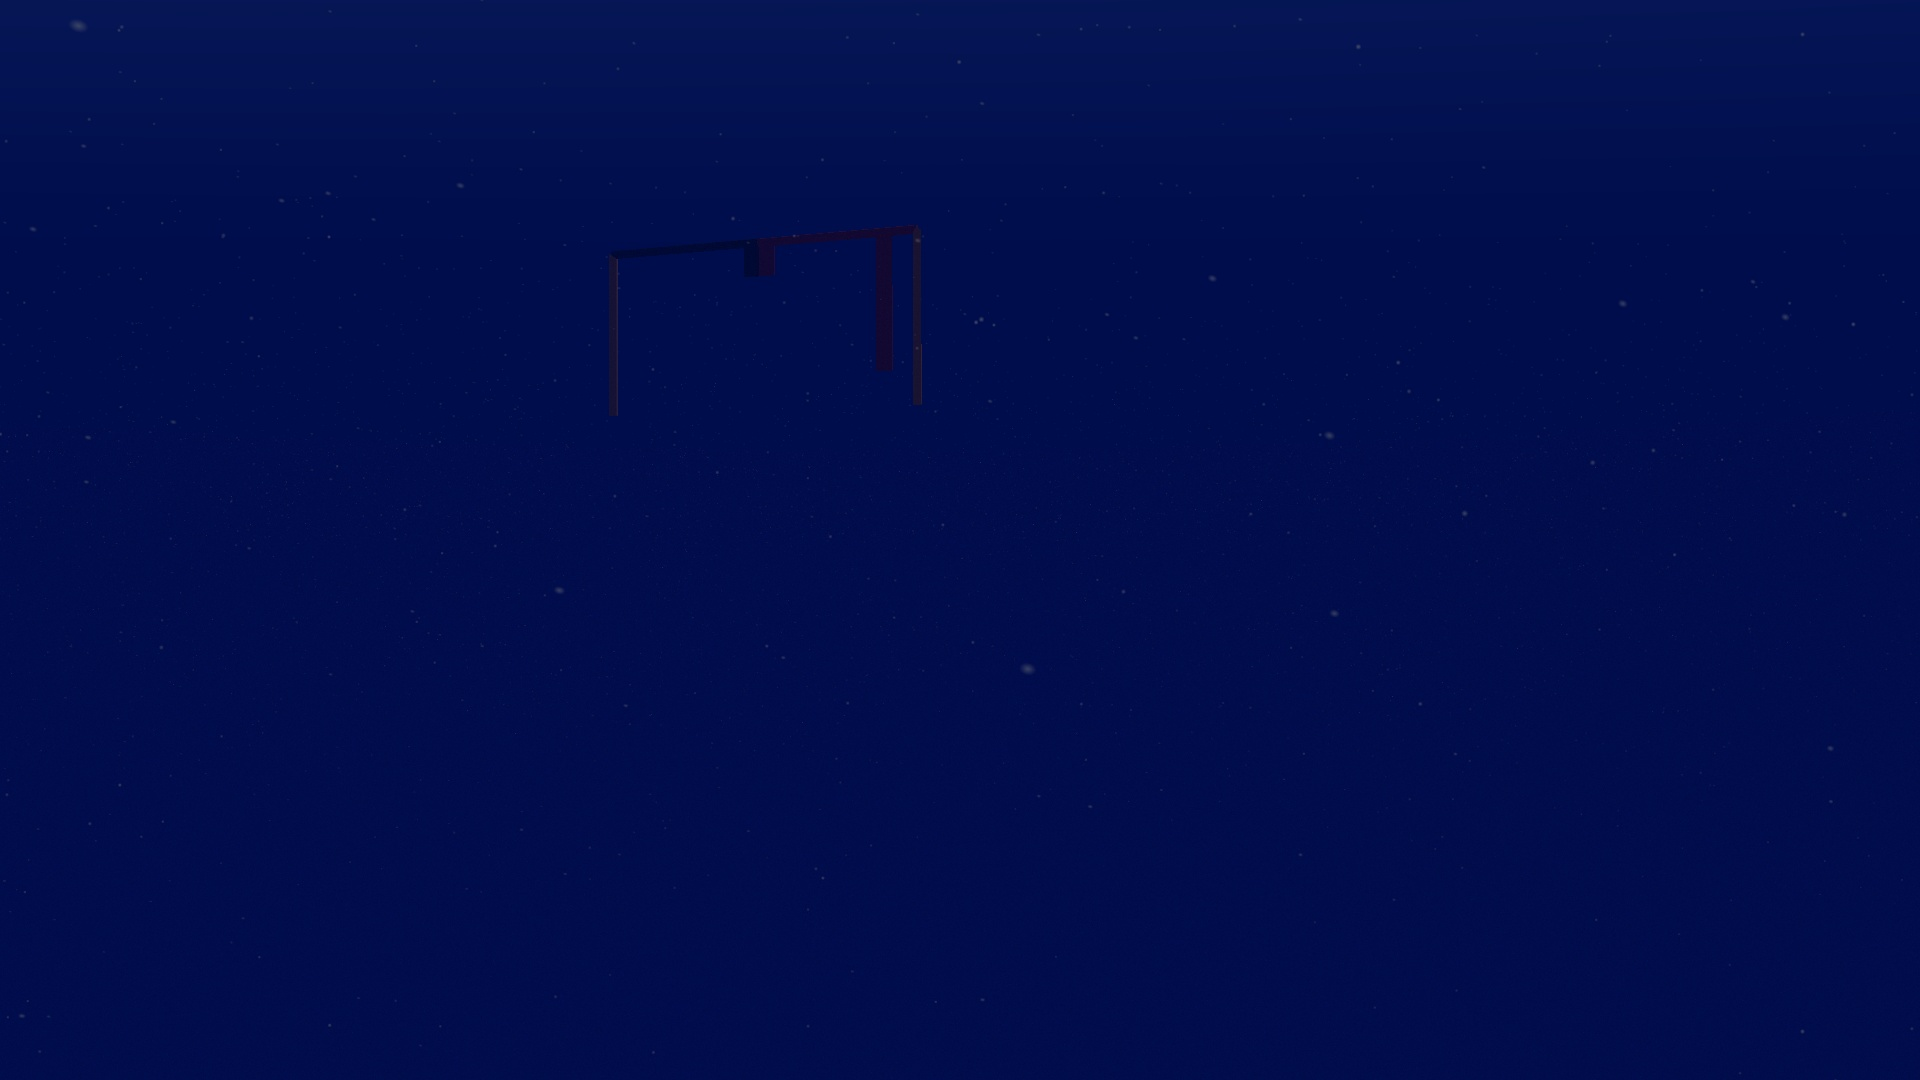Gate: (603, 218, 932, 422)
